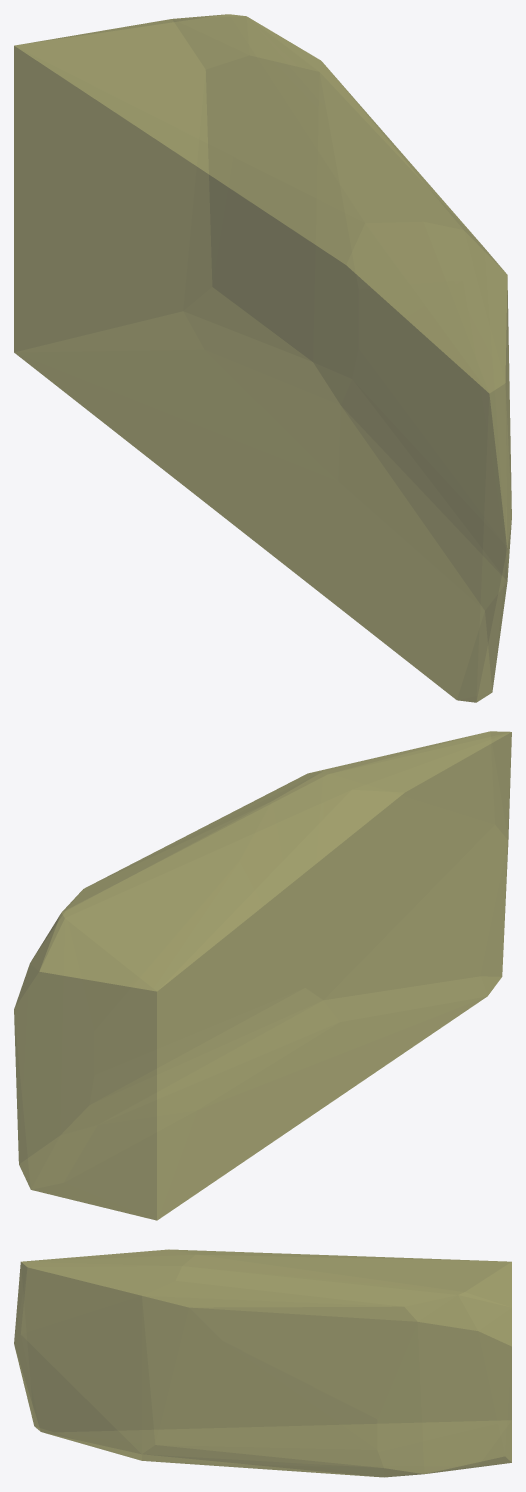
3 views of the same model, one above another, from view 1: azimuth 30°, elevation 25°; view 2: azimuth 150°, elevation 25°; view 3: azimuth 270°, elevation 25° (orthographic). The views are drawn at different scales.
Parts seen in each view (by area): view 1: Shape_IndexedFaceSet.006_Shape_IndexedFaceSet.15212; view 2: Shape_IndexedFaceSet.006_Shape_IndexedFaceSet.15212; view 3: Shape_IndexedFaceSet.006_Shape_IndexedFaceSet.15212.
Boxes of the visible parts, box(x1,y1,x2,y2) form: Shape_IndexedFaceSet.006_Shape_IndexedFaceSet.15212: box(14, 14, 511, 702); Shape_IndexedFaceSet.006_Shape_IndexedFaceSet.15212: box(14, 731, 511, 1220); Shape_IndexedFaceSet.006_Shape_IndexedFaceSet.15212: box(14, 1249, 511, 1477).
Bounding box in the file's own units: 0.00719 × 0.0117 × 0.028.
